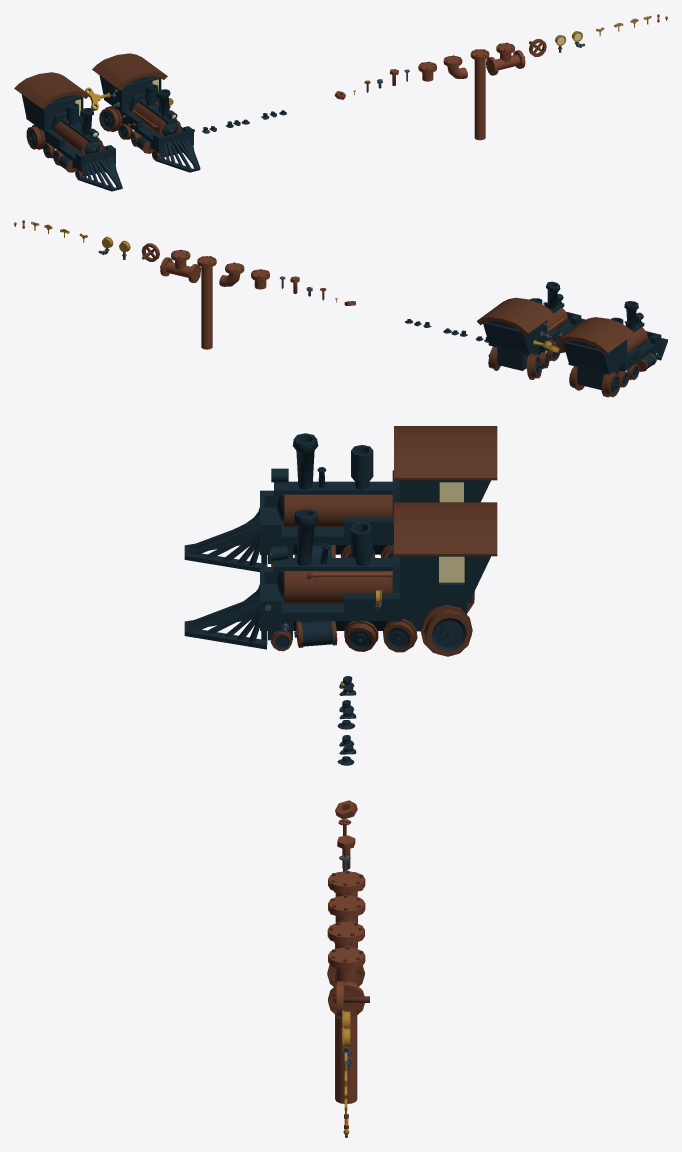
The model's file is semana_3.fbx.
3 views of the same model, one above another, from view 1: azimuth 30°, elevation 25°; view 2: azimuth 150°, elevation 25°; view 3: azimuth 270°, elevation 25° (orthographic). The views are drawn at different scales.
Parts seen in each view (by area): view 1: trem_steampunk, trem_base, canos_003, canos_004, canos_002, canos_001; view 2: trem_base, trem_steampunk, canos_003, canos_004, canos_002, canos_001; view 3: trem_steampunk, trem_base, canos_003, canos_004.
Part boxes in pixels (bbox=[...]): trem_steampunk: bbox=[85, 53, 200, 172]; trem_base: bbox=[14, 72, 122, 191]; canos_003: bbox=[470, 49, 489, 140]; canos_004: bbox=[486, 42, 525, 75]; canos_002: bbox=[443, 55, 467, 78]; canos_001: bbox=[418, 61, 436, 81]; trem_base: bbox=[556, 301, 667, 397]; trem_steampunk: bbox=[477, 281, 585, 379]; canos_003: bbox=[197, 256, 216, 349]; canos_004: bbox=[160, 249, 201, 283]; canos_002: bbox=[219, 262, 244, 286]; canos_001: bbox=[251, 269, 269, 289]; trem_steampunk: bbox=[184, 502, 497, 656]; trem_base: bbox=[184, 426, 497, 572]; canos_003: bbox=[327, 922, 364, 1103]; canos_004: bbox=[327, 946, 365, 1017].
Size of the model in its own units: 4593 by 960 by 1008.
